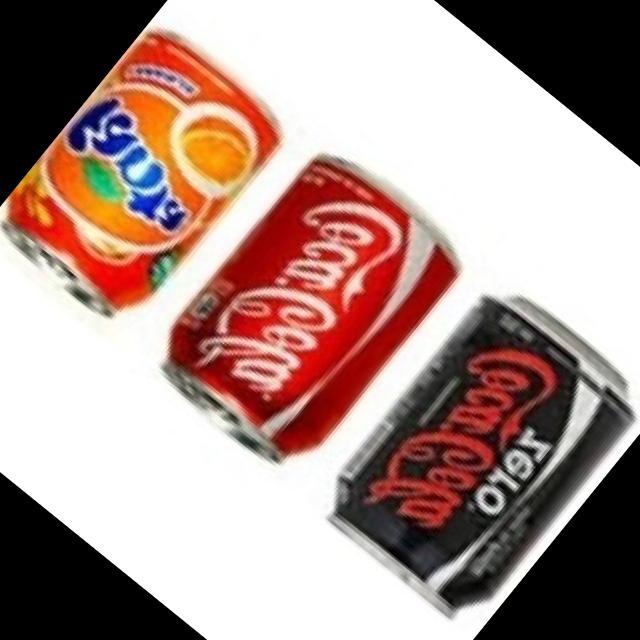Kaleng: (307, 273, 640, 633), (137, 138, 472, 488), (0, 18, 291, 340)
